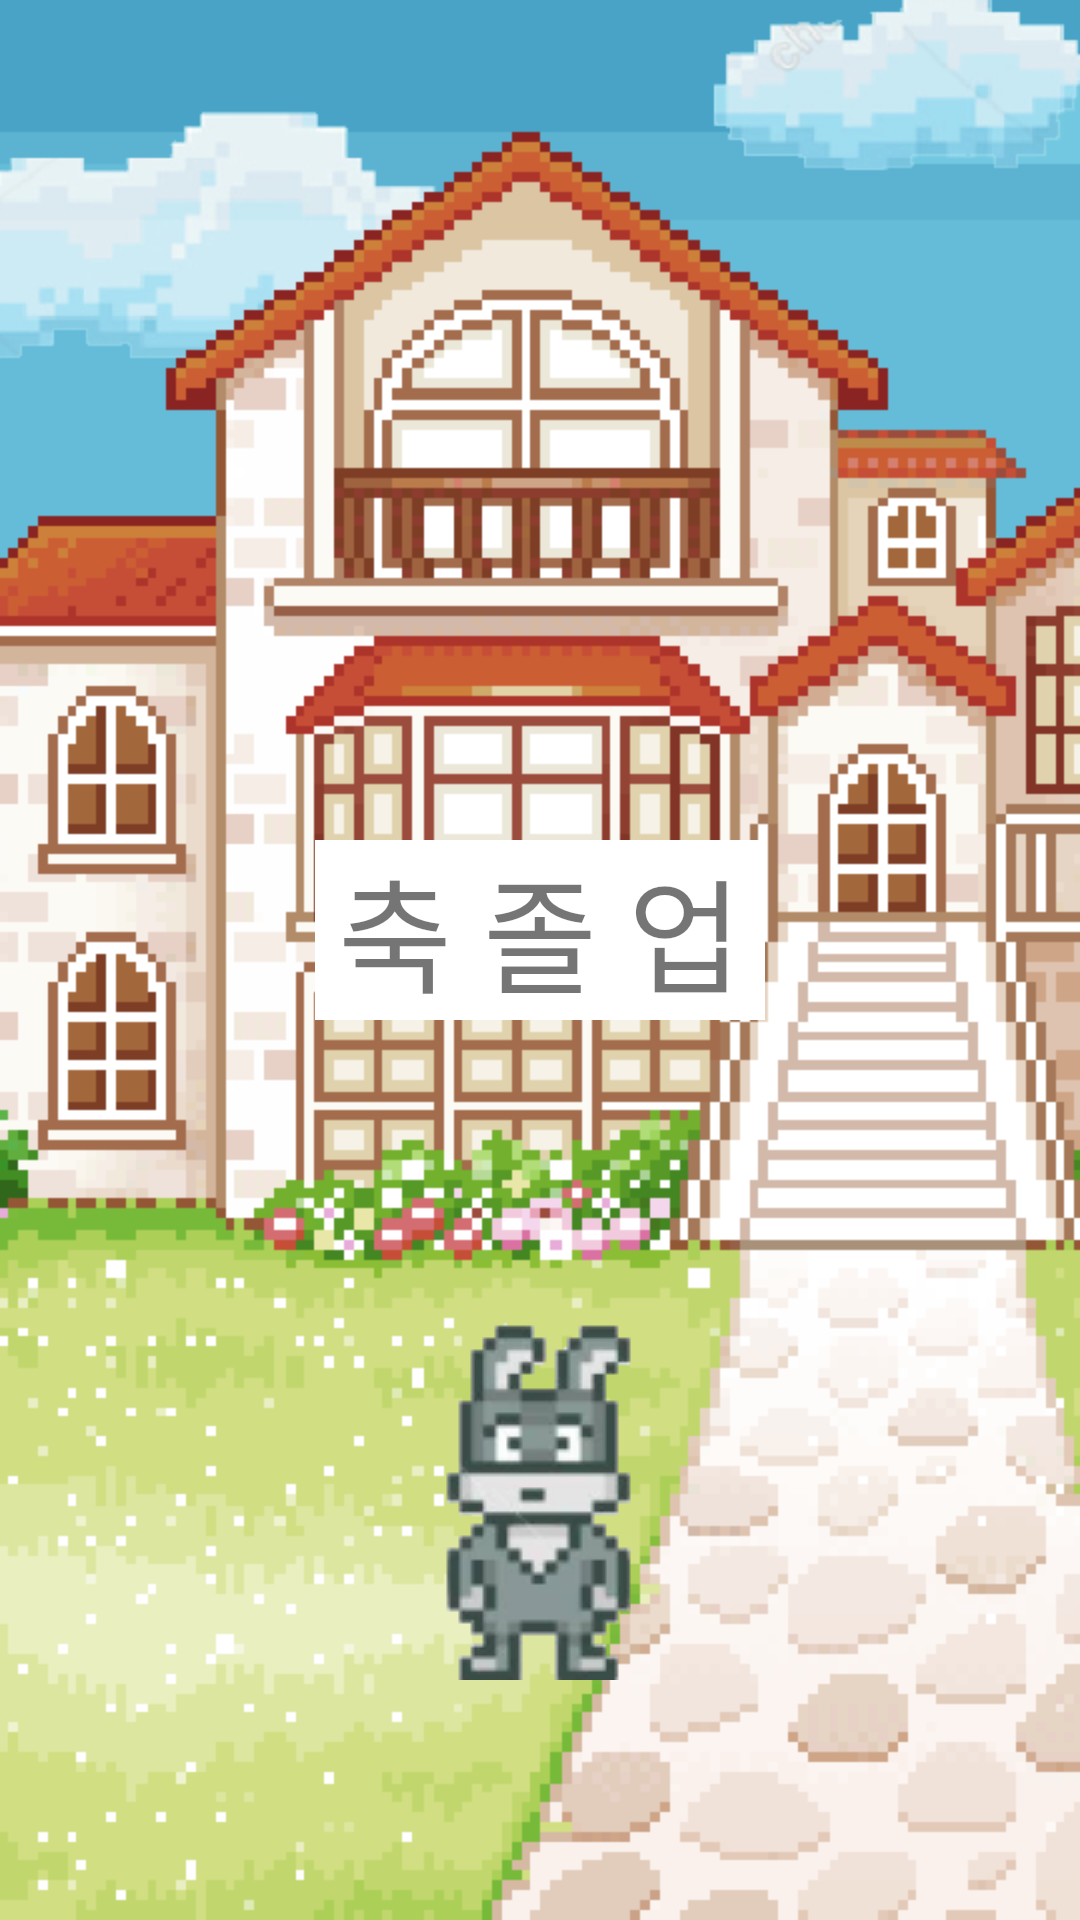

Where to tap for icons on this 1080 x 1920 app screen, as [x,y]:
rabbit: [540,1500]
